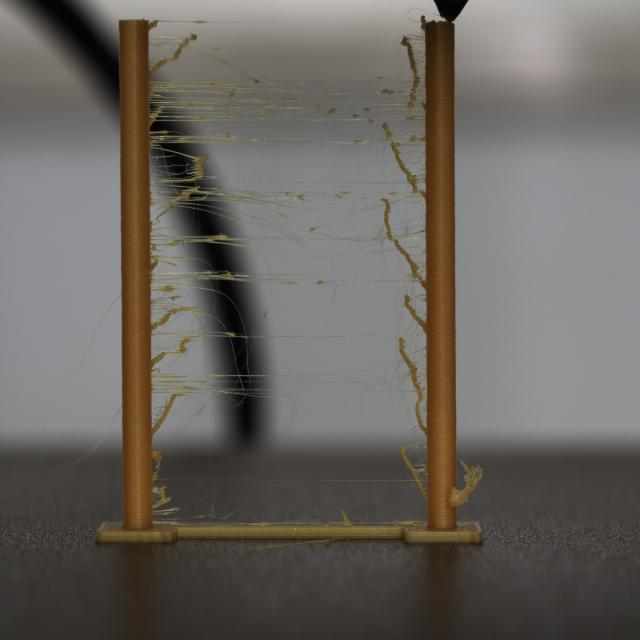Warping: (150, 33, 424, 439)
